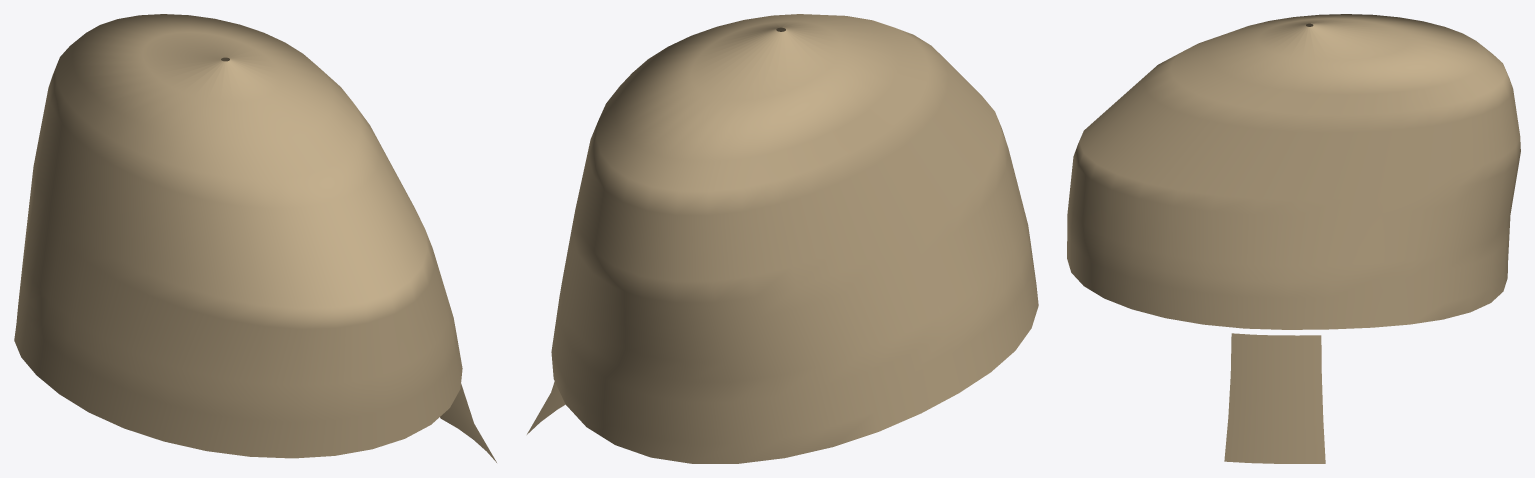
Rendered from fila_m.glb.
The picture shows the model from 3 angles, left to right: view 1: azimuth 30°, elevation 25°; view 2: azimuth 150°, elevation 25°; view 3: azimuth 270°, elevation 25°; orthographic projection. The views are drawn at different scales.
Visible parts, largest first — view 1: hair; view 2: hair; view 3: hair.
Boxes of the visible parts, bbox=[...] form: hair: bbox=[14, 14, 496, 462]; hair: bbox=[527, 14, 1038, 463]; hair: bbox=[1067, 14, 1520, 463].
Bounding box in the file's own units: 0.2058 × 0.2037 × 0.2409.
